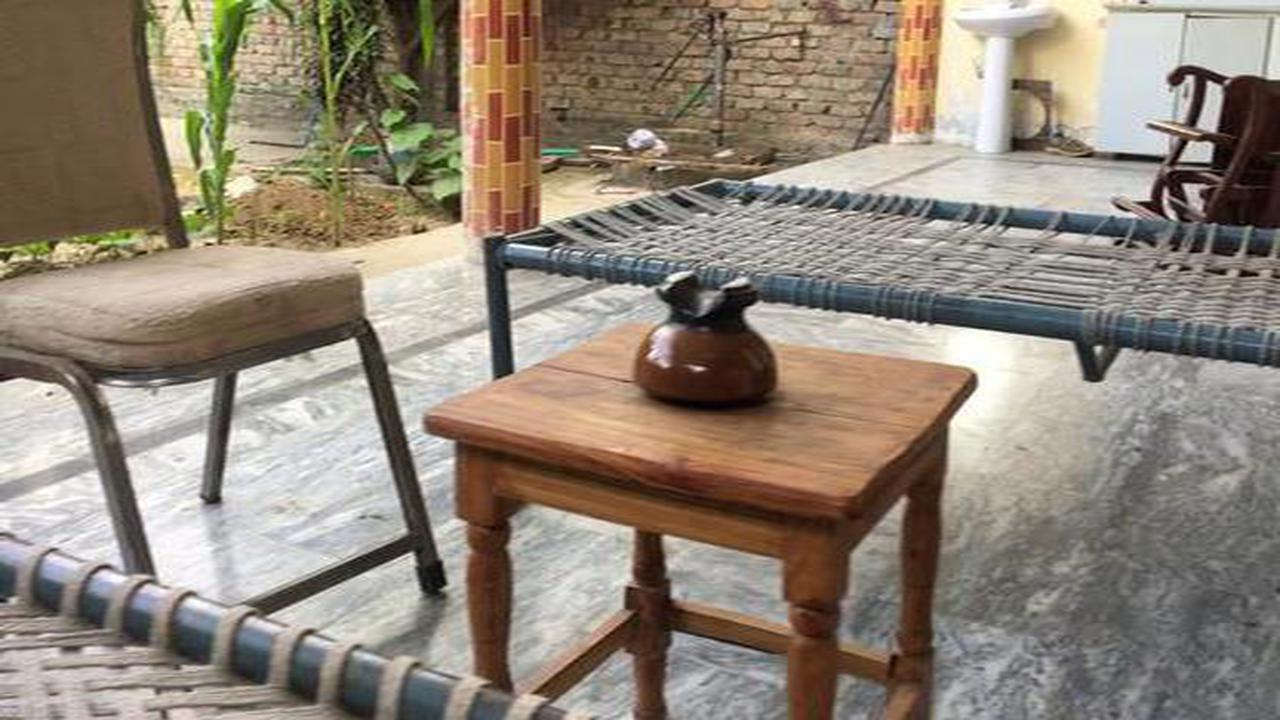insulator_pin: (610, 257, 797, 418)
